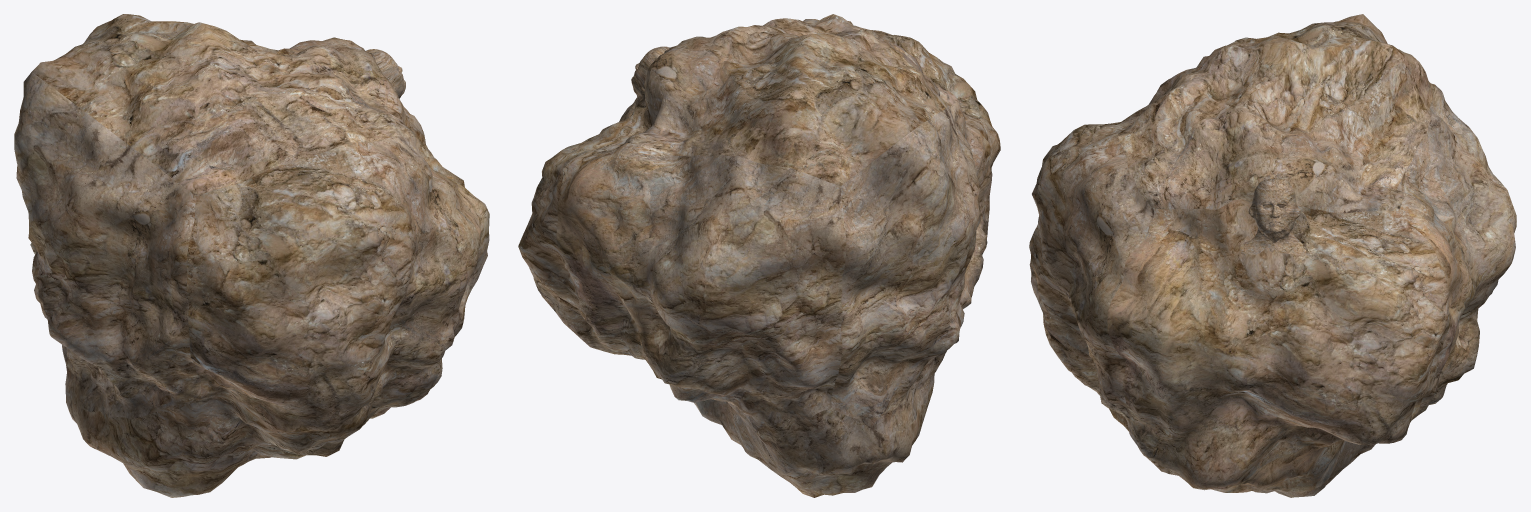
File: monument.fbx
The picture shows the model from 3 angles, left to right: view 1: azimuth 30°, elevation 25°; view 2: azimuth 150°, elevation 25°; view 3: azimuth 270°, elevation 25°; orthographic projection. The views are drawn at different scales.
Visible parts, largest first — view 1: TheAsteroid, Entrance; view 2: TheAsteroid, Entrance; view 3: TheAsteroid, Entrance.
Boxes of the visible parts, <box> form: TheAsteroid: <box>14,14,489,497</box>; Entrance: <box>365,49,411,125</box>; TheAsteroid: <box>518,14,1000,497</box>; Entrance: <box>626,46,669,118</box>; TheAsteroid: <box>1029,14,1516,497</box>; Entrance: <box>1240,179,1306,256</box>.
Bounding box in the file's own units: 2147 × 2042 × 2215.
2 materials, 2 textured.
